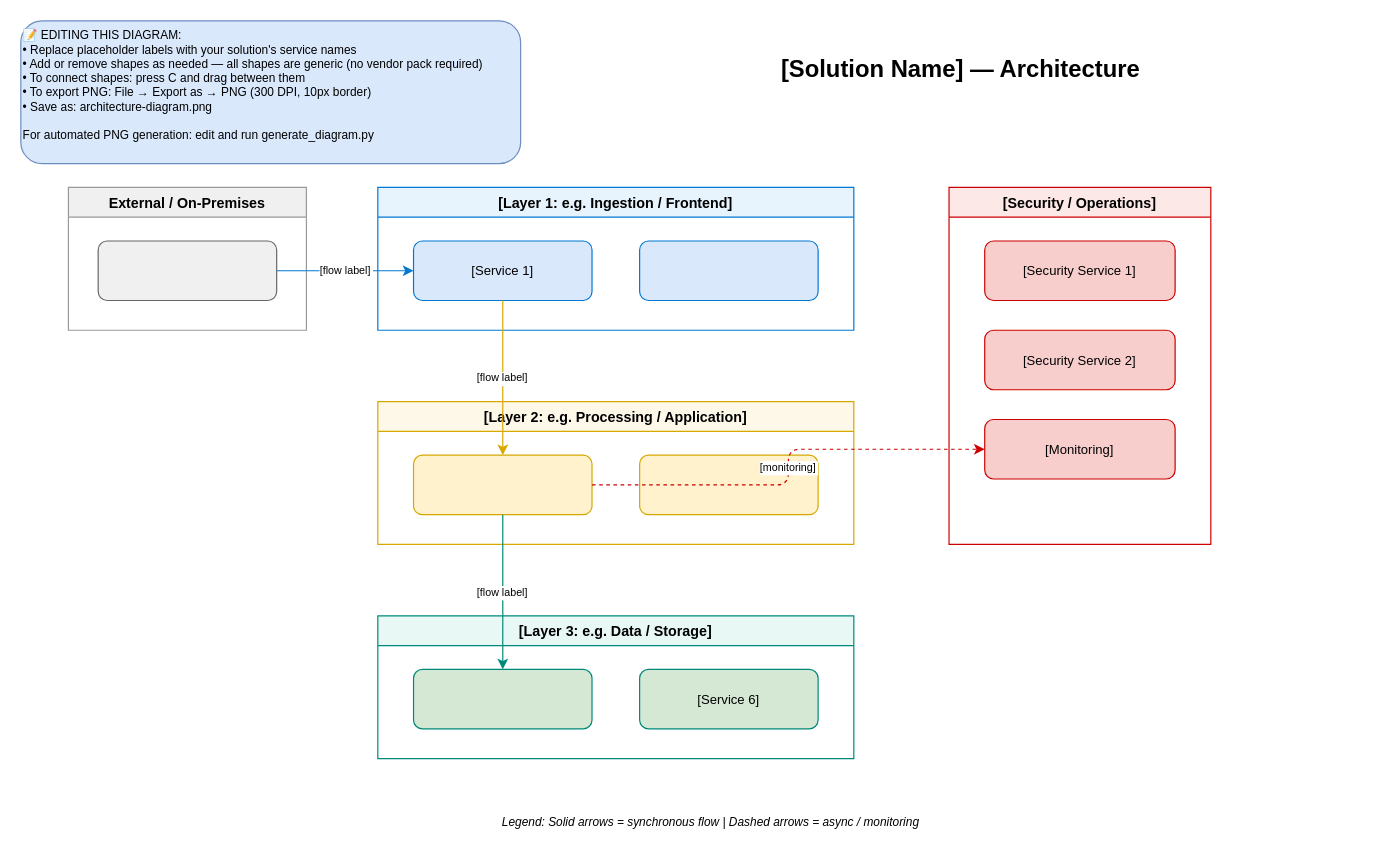
The diagram is 1398 pixels wide and 857 high, and some of its shapes have lost their labels. Each missing label, with the centre of its shape:
[External System]: pixel 187 270
[Service 2]: pixel 728 270
[Service 3]: pixel 502 484
[Service 4]: pixel 728 484
[Service 5]: pixel 502 698
